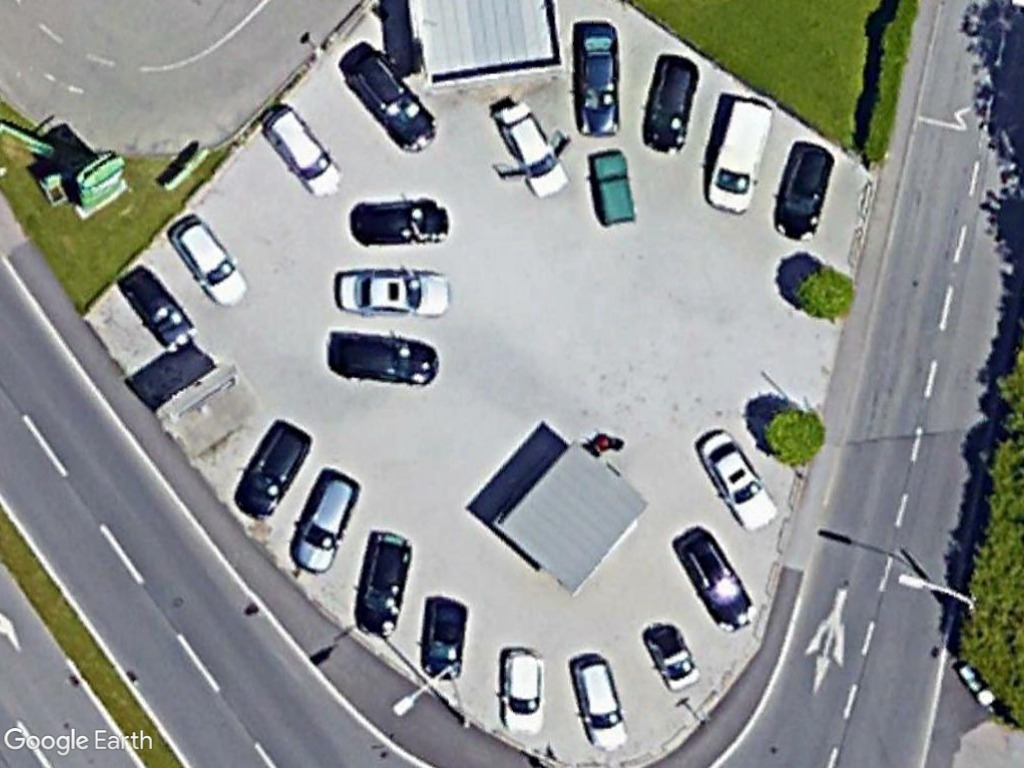car: (670, 519, 759, 636), (688, 424, 780, 535), (233, 410, 318, 527), (352, 54, 444, 160), (255, 100, 346, 202), (286, 468, 360, 582), (162, 213, 249, 309), (492, 99, 572, 202), (569, 14, 628, 141), (325, 329, 444, 391), (771, 138, 837, 248), (353, 527, 416, 642), (333, 265, 457, 322), (118, 268, 198, 356), (638, 49, 702, 159), (568, 645, 631, 756), (489, 639, 552, 746), (347, 194, 454, 249), (414, 592, 471, 684)
van: (704, 94, 778, 217)
